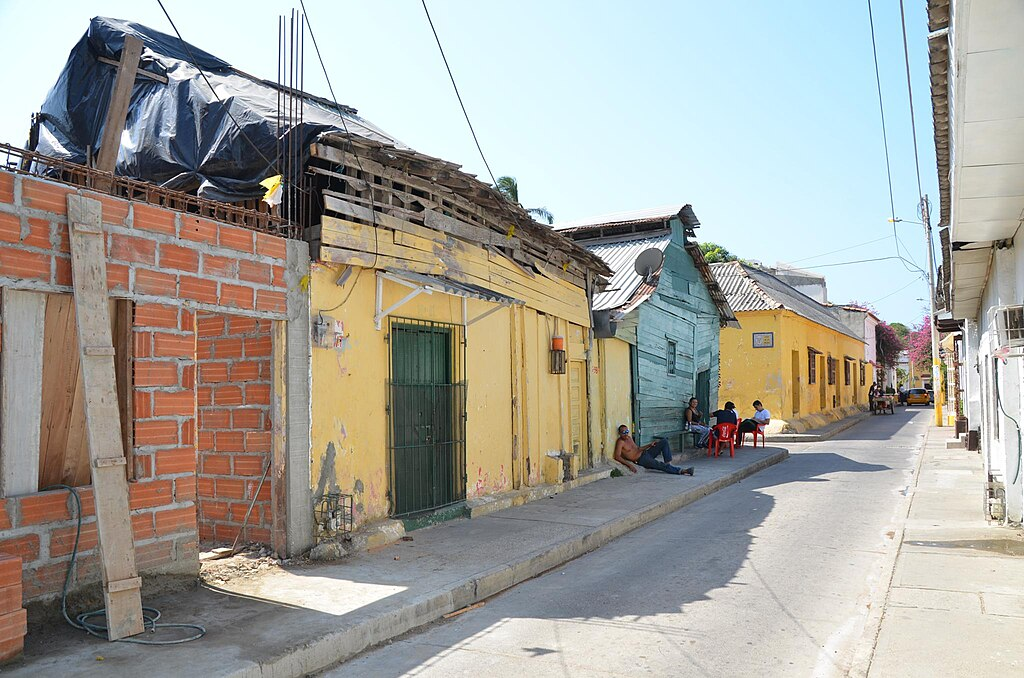House: (299, 112, 632, 523), (601, 200, 734, 462), (723, 254, 871, 436)
